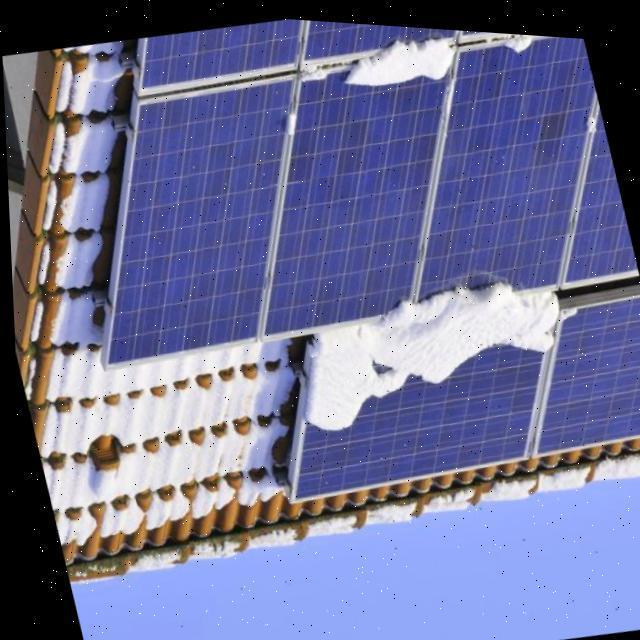Anomaly Solar Panel: (102, 28, 637, 367), (287, 282, 640, 502)
Normal Solar Panel: (139, 15, 505, 89)
Snow: (311, 257, 573, 434), (338, 26, 471, 92)
